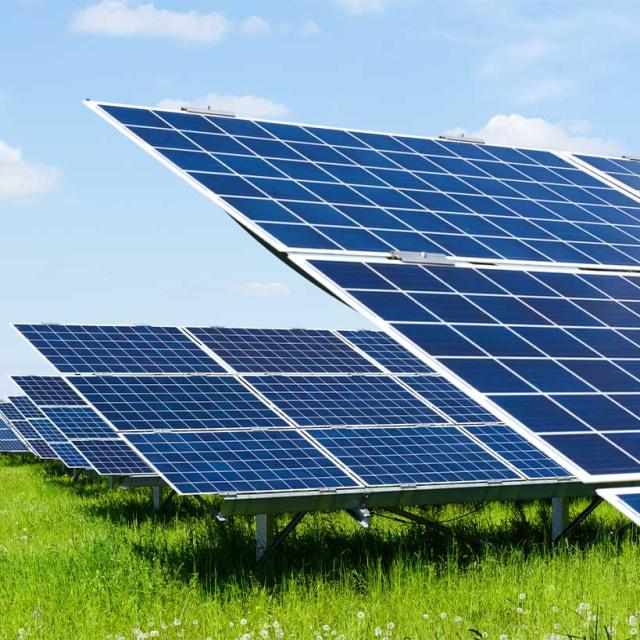clean-solar-panel: (88, 102, 640, 483), (18, 325, 574, 513)
